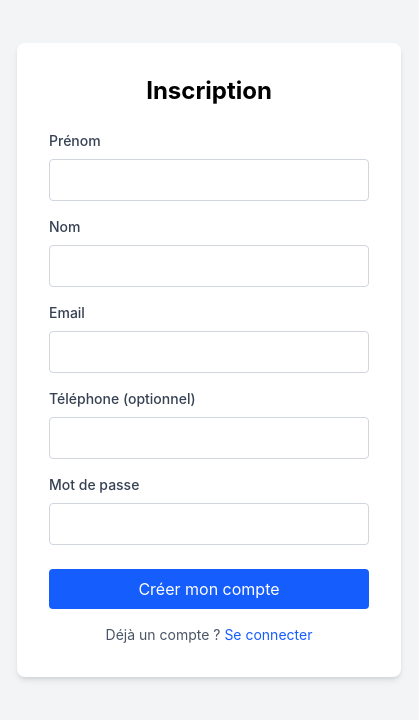
Scenario: RegisterPage › affiche le message d'erreur réel du backend (ex: mot de passe trop court), pas un message générique
Step 1. Type "Yossra" into the field labelled "Prénom" → (209, 180), box [49,159,369,201]
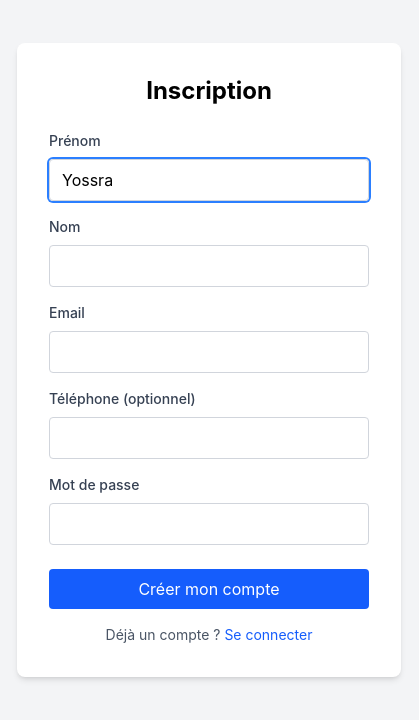
Step 2. Type "Manai" into the field labelled "Nom" → (209, 266), box [49,245,369,287]
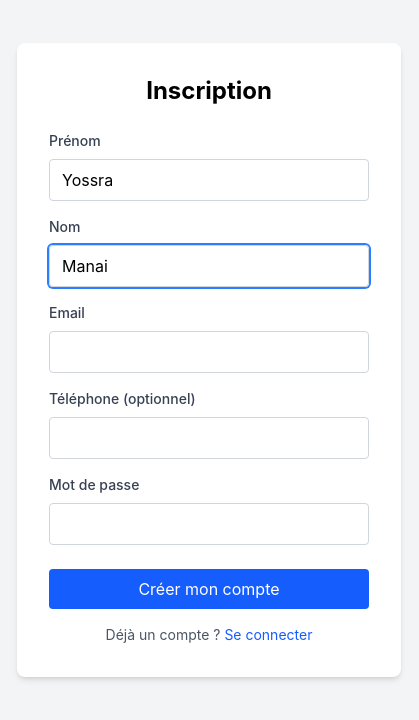
Step 3. Type "yossra@test.com" into the field labelled "Email" → (209, 352), box [49,331,369,373]
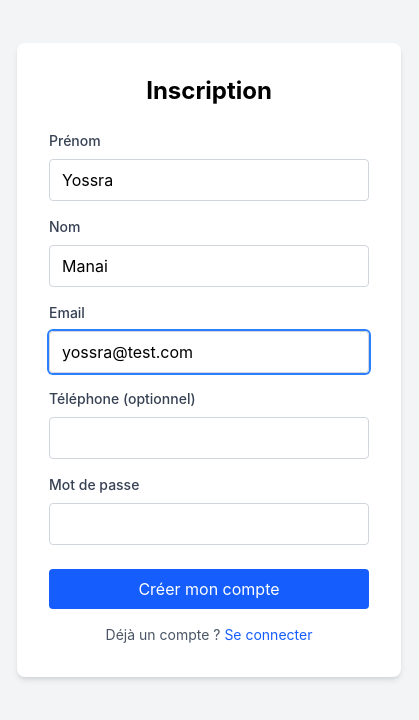
Step 4. Type "court" into the password field labelled "Mot de passe" → (209, 524), box [49,503,369,545]
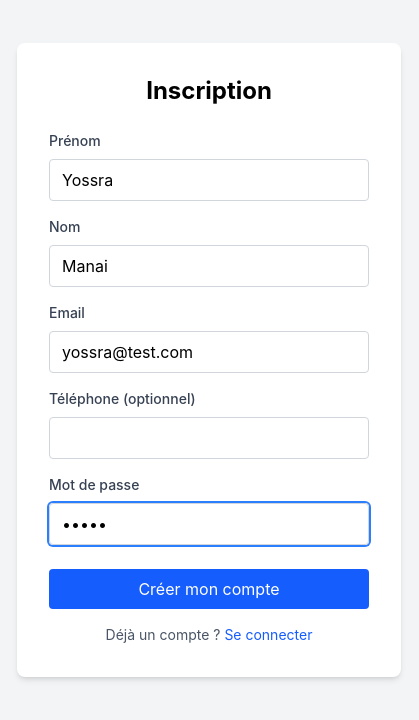
Step 5. Click the button "Créer mon compte" → (209, 589), box [49,569,369,609]
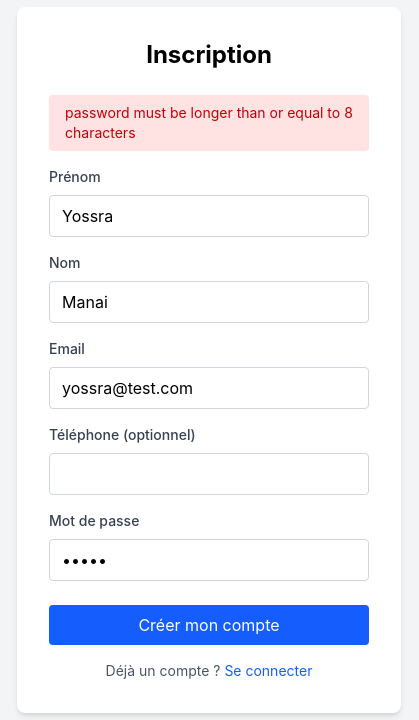
Result: the text "password must be longer than or equal to 8 characters" is shown at [49,95,369,151]
